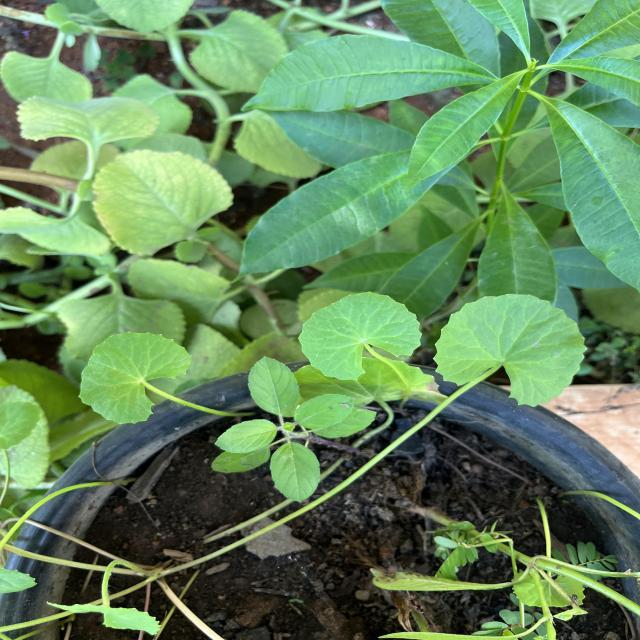Centella asiatica: (429, 291, 592, 410), (295, 288, 424, 384), (76, 328, 195, 426)
